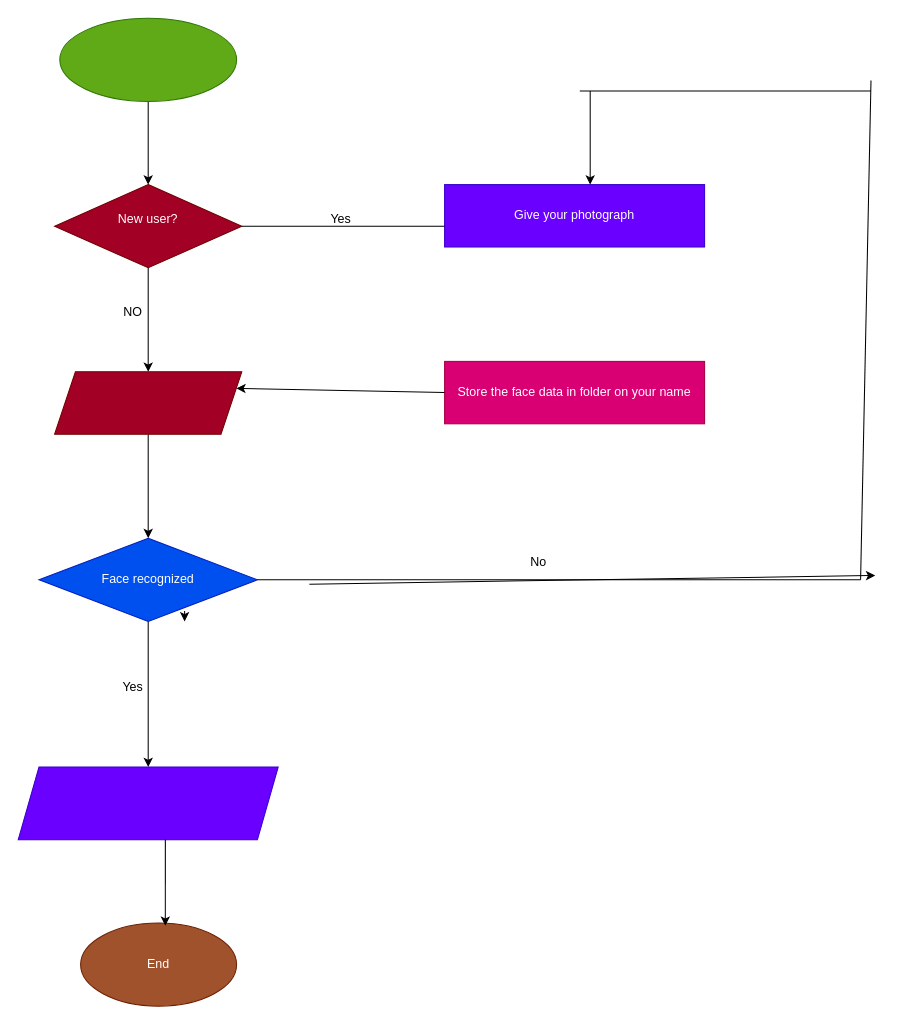
Some shapes in this 903 by 1024 pixel diagram are drawn without their labels. The centre of each missing label's shape, as x and y in pixels:
Recongnize the face: the point at 148,402
Start: the point at 148,59
Stored in csv file with Registration Number & Date Time of Entry: the point at 147,803
